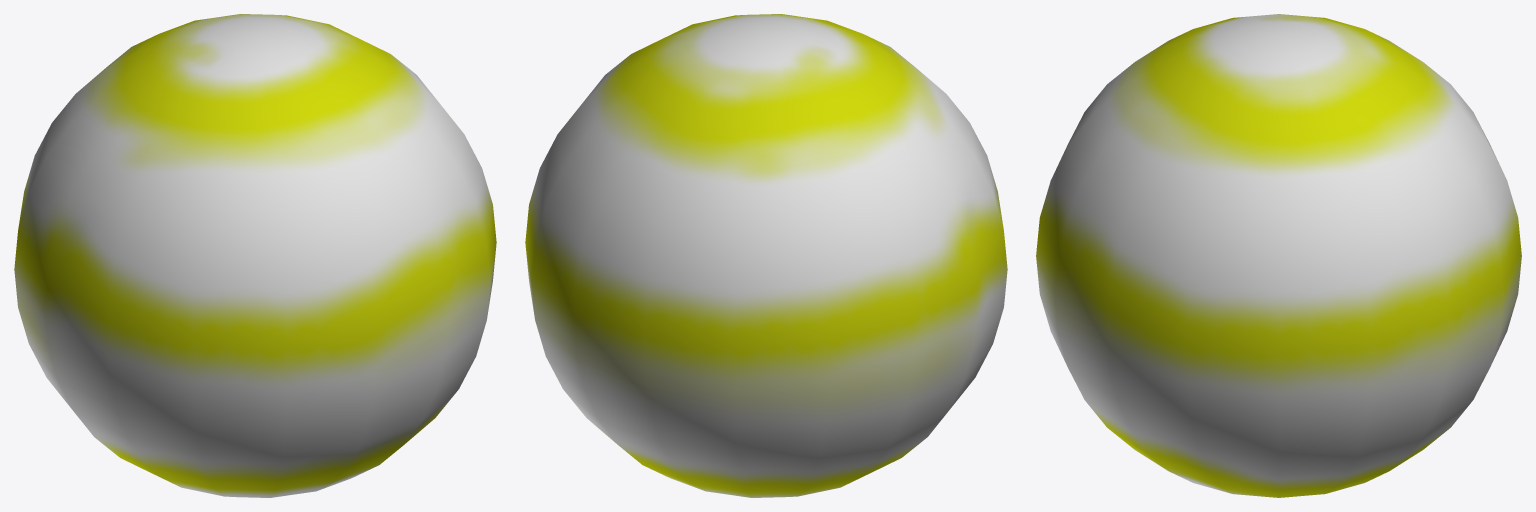
File: Jolen yellow.fbx
3 renders of one model, left to right at view 1: azimuth 30°, elevation 25°; view 2: azimuth 150°, elevation 25°; view 3: azimuth 270°, elevation 25°, orthographic.
Parts seen in each view (by area): view 1: Jolen yellow; view 2: Jolen yellow; view 3: Jolen yellow.
Part boxes in pixels (x1,y1,x2,y2): Jolen yellow: (14,14,496,497); Jolen yellow: (525,14,1007,497); Jolen yellow: (1036,14,1521,497).
Bounding box in the file's own units: 200 × 200 × 200.
